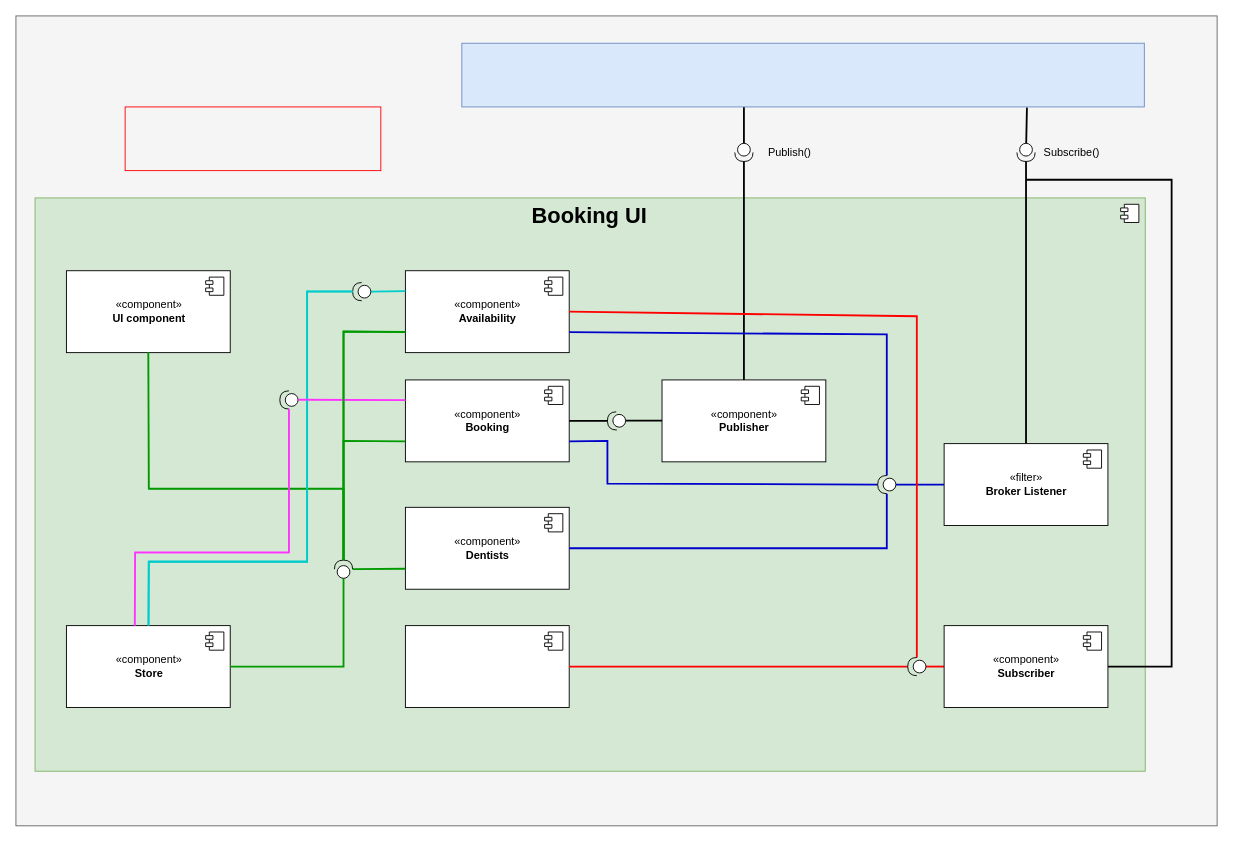
This 1233x842 diagram has some shape labels left out. Each missing label, with the centre of its shape:
"Disclaimer - Line colors are for readability purpose only" belongs at [252,138].
"Mosquitto Broker" belongs at [802,74].
"«component» Broker connector" belongs at [486,666].
